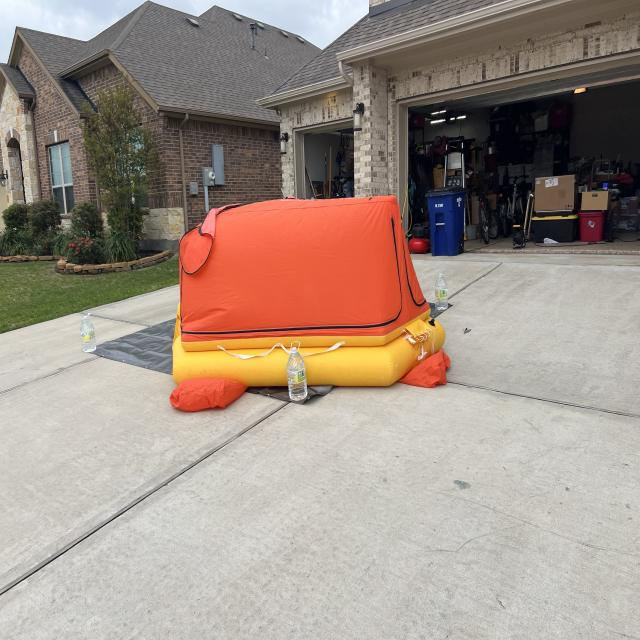Multi-person_life_raft: (170, 195, 450, 414)
